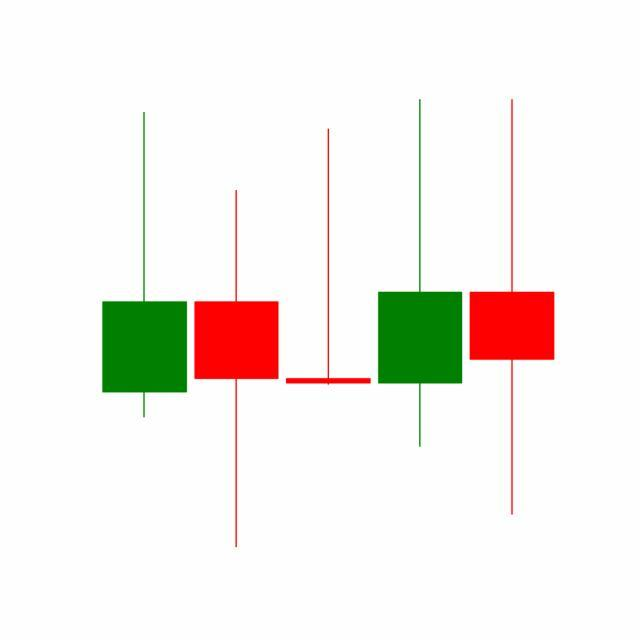Spinning Top: (466, 96, 559, 521)
